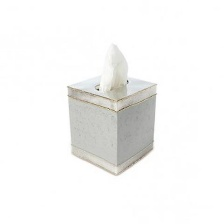tissue: (91, 36, 134, 95)
